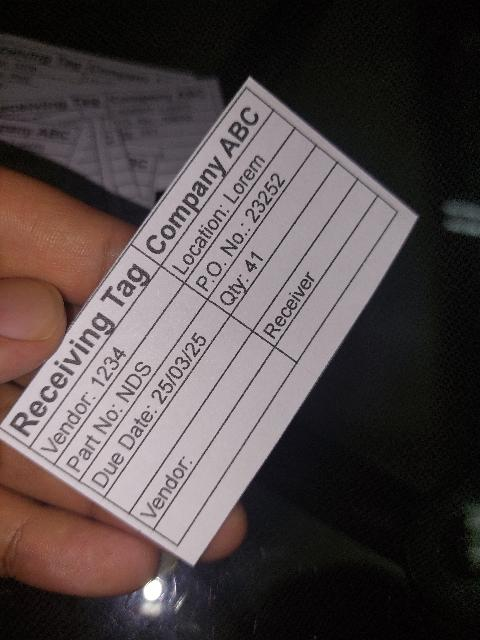PO no: (185, 128, 317, 300)
part no: (54, 283, 207, 481)
qty: (207, 145, 337, 316)
tags: (0, 79, 416, 565)
